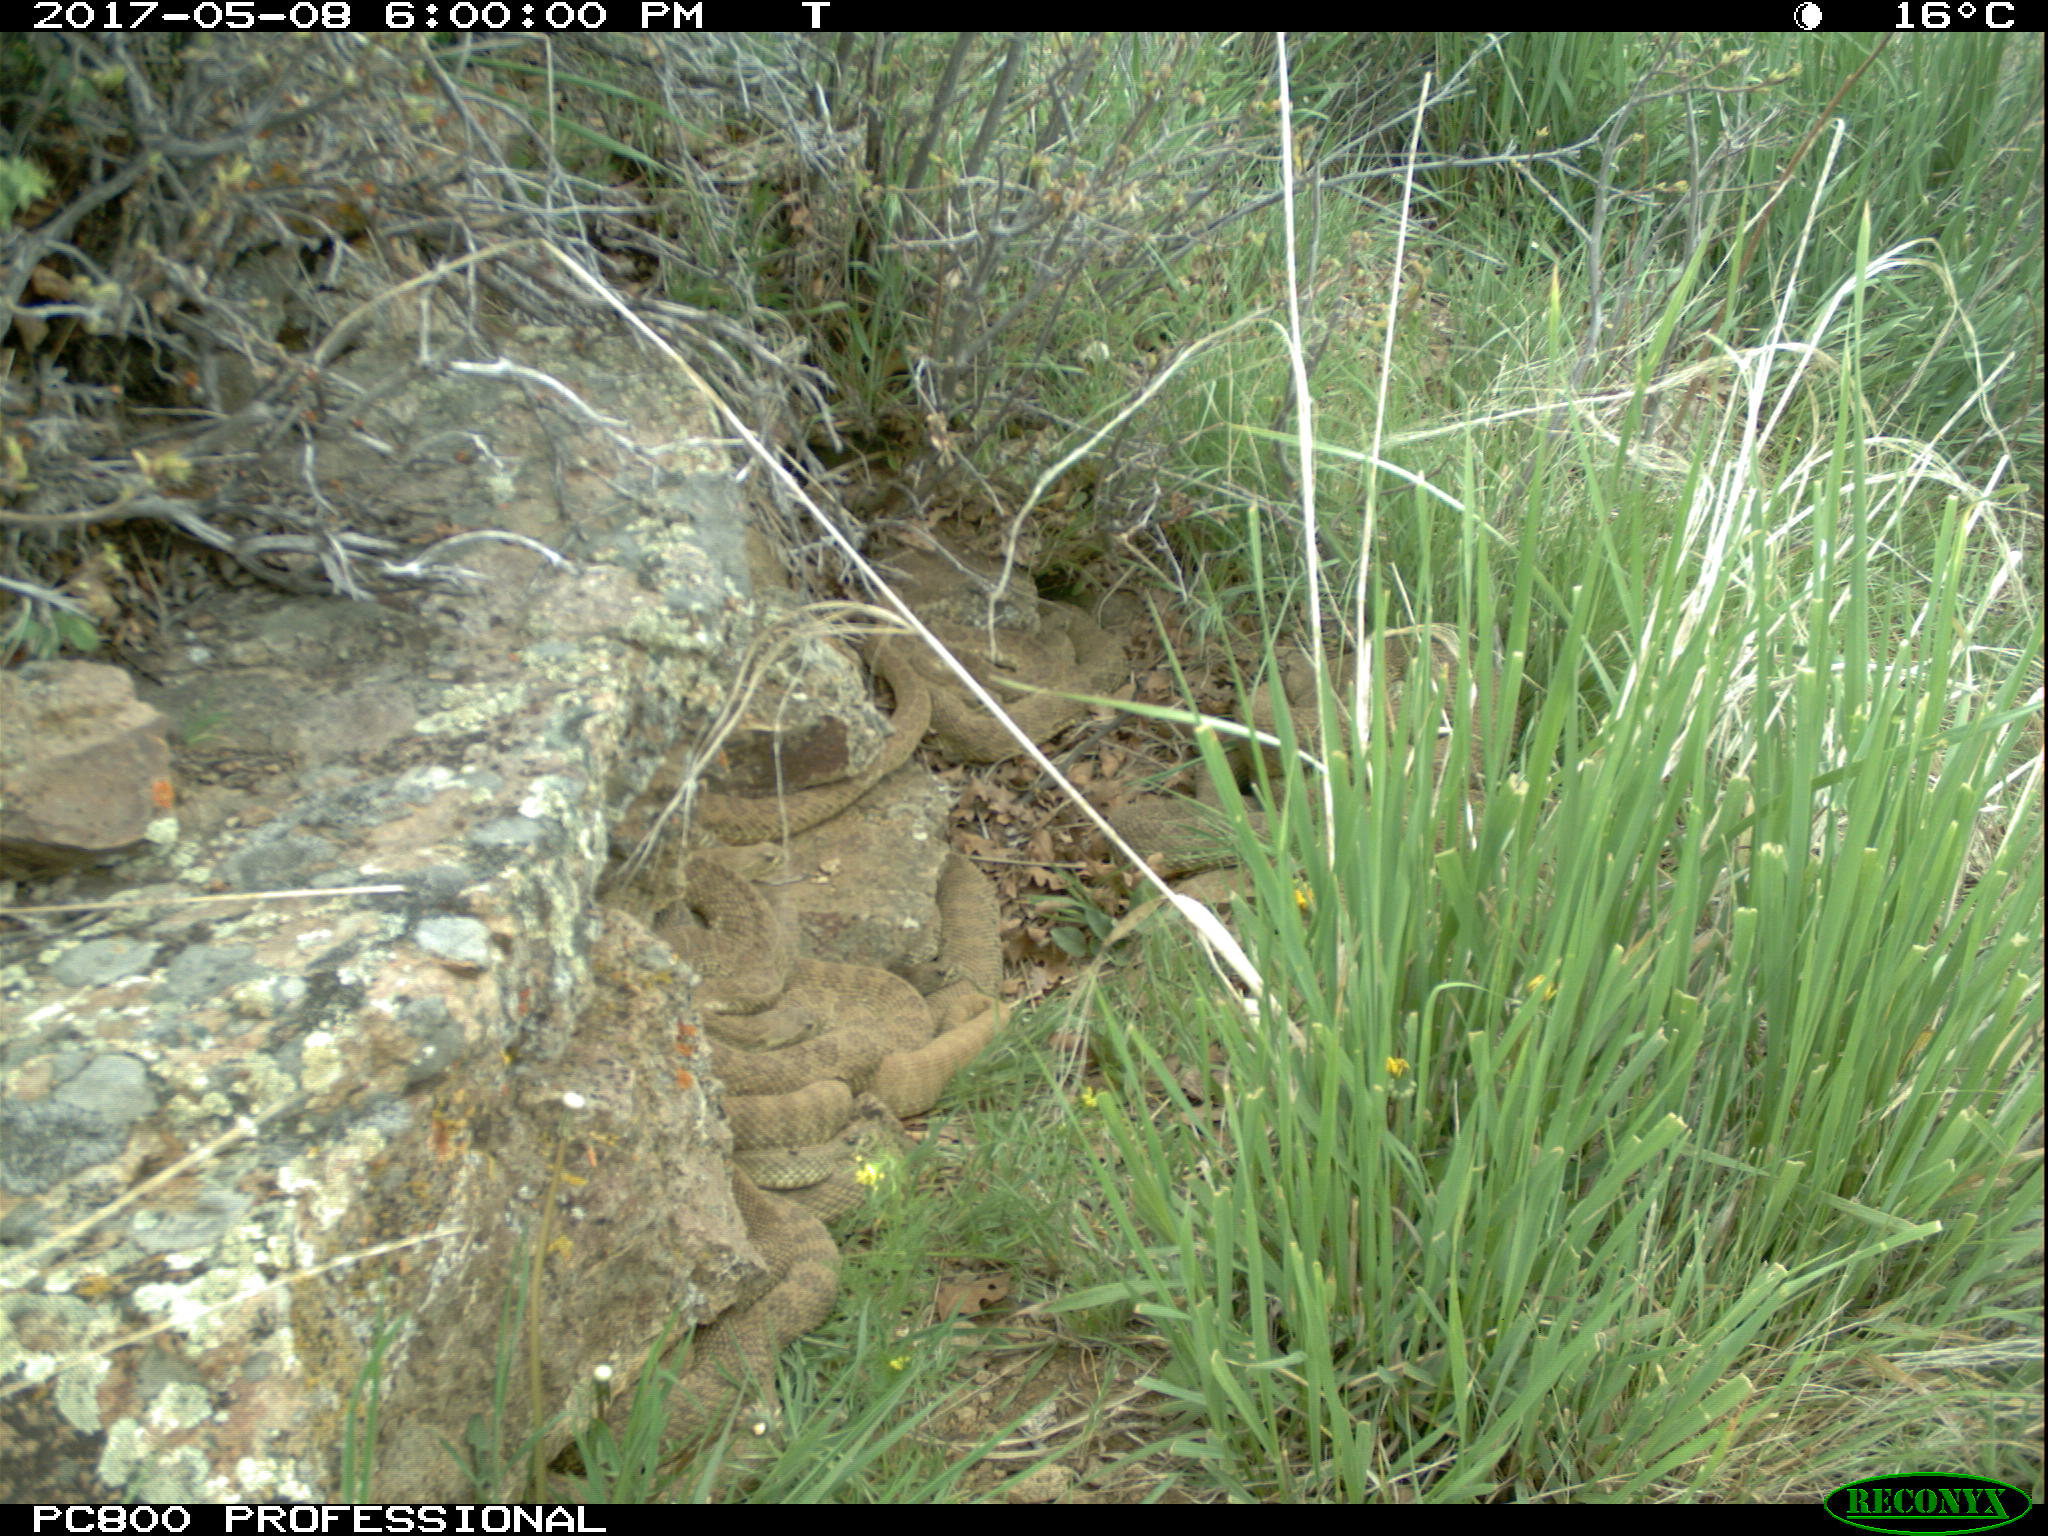snake: (690, 852, 998, 1120), (597, 1163, 845, 1481), (1234, 634, 1513, 799), (872, 623, 1130, 753), (1119, 783, 1342, 908), (692, 787, 871, 842)
